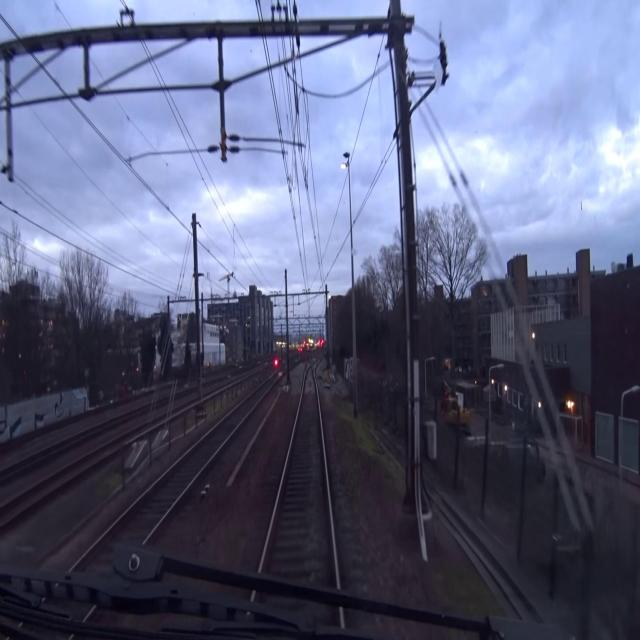rail-track: (81, 380, 272, 569), (263, 369, 335, 580), (0, 427, 146, 521)
